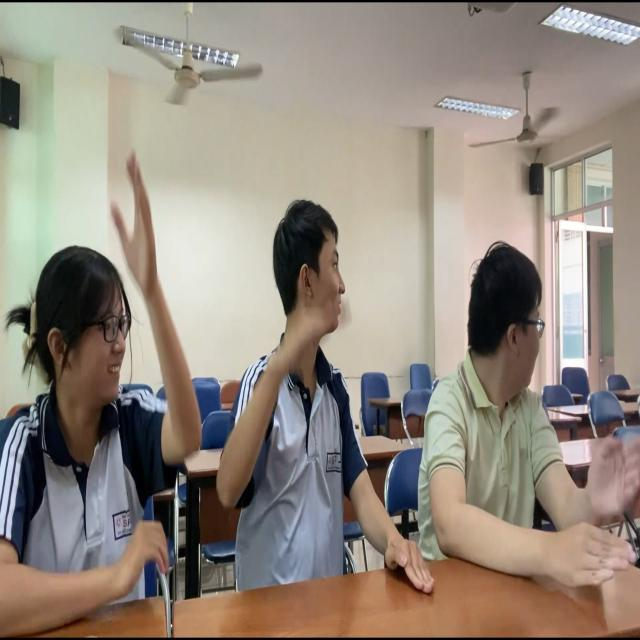raise_hand: (1, 149, 212, 640)
